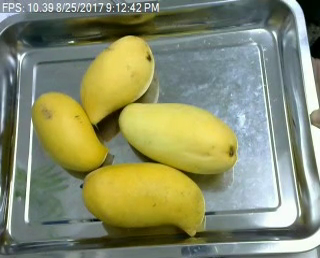Mango: (80, 163, 209, 236), (119, 99, 234, 173), (78, 33, 157, 124), (30, 86, 110, 170)
